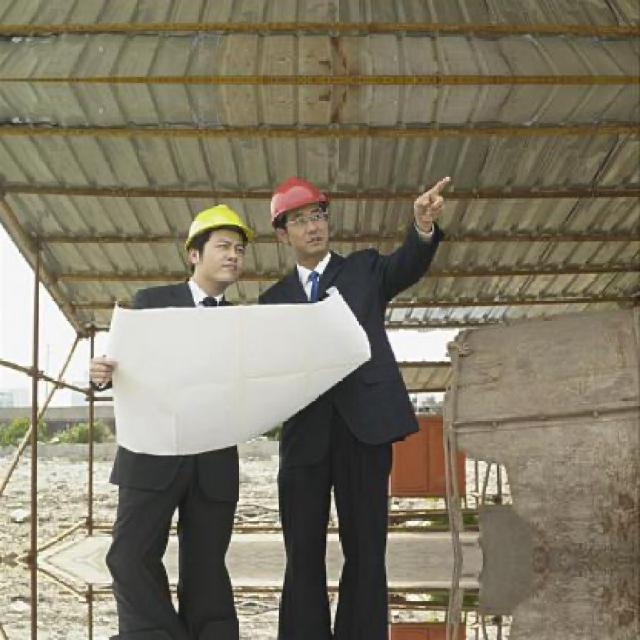helmet: (177, 192, 260, 298), (255, 166, 340, 262)
